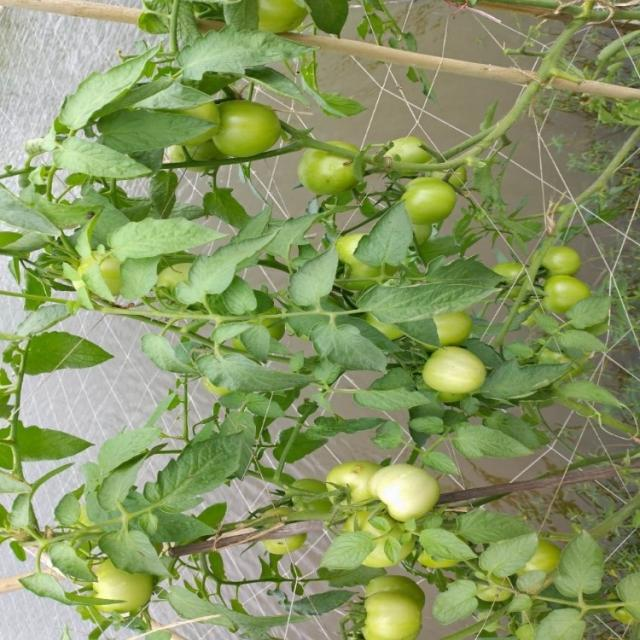tomato: (194, 92, 297, 170), (368, 457, 448, 527), (392, 169, 473, 233), (86, 555, 159, 618), (419, 339, 494, 398), (363, 135, 454, 183), (293, 140, 366, 195), (353, 590, 431, 640), (312, 456, 377, 509), (536, 268, 603, 318), (361, 569, 429, 617), (335, 224, 385, 289), (351, 510, 402, 571), (240, 3, 317, 42), (539, 233, 583, 283), (170, 130, 229, 165), (523, 541, 561, 589), (431, 304, 469, 352)
